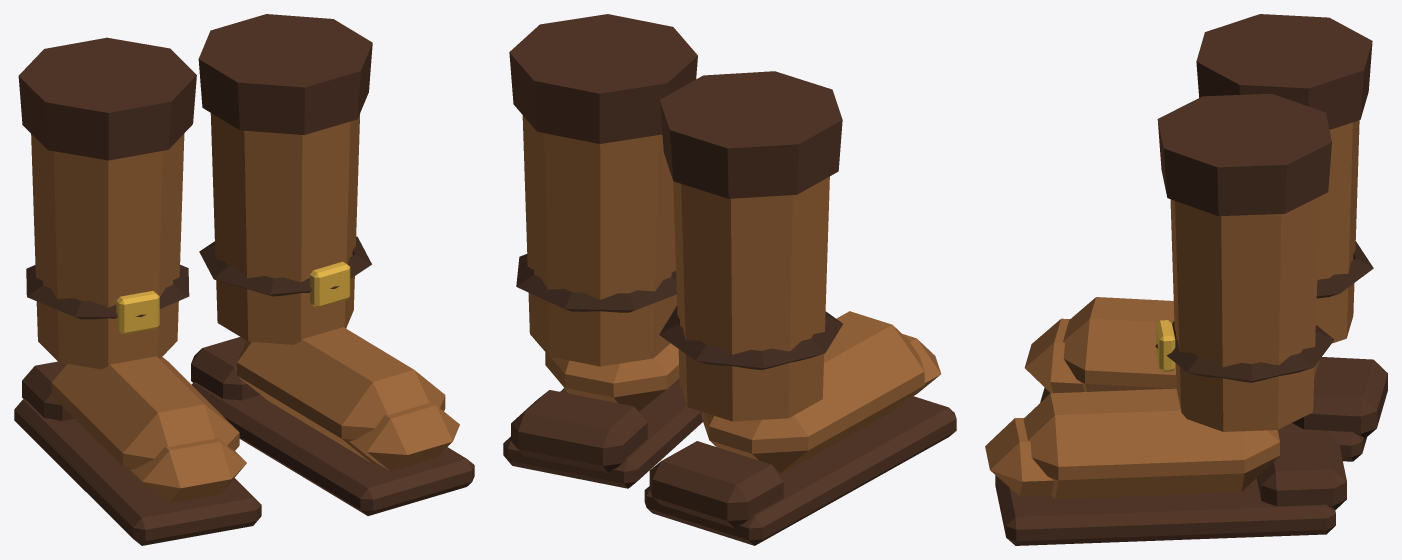
The model's file is Item_LeatherBoots.glb.
The picture shows the model from 3 angles, left to right: view 1: azimuth 30°, elevation 25°; view 2: azimuth 150°, elevation 25°; view 3: azimuth 270°, elevation 25°; orthographic projection. The views are drawn at different scales.
Parts seen in each view (by area): view 1: Item_LeatherBoots; view 2: Item_LeatherBoots; view 3: Item_LeatherBoots.
Boxes of the visible parts, left/top/right/bottom form: Item_LeatherBoots: left=14, top=14, right=474, bottom=545; Item_LeatherBoots: left=503, top=14, right=956, bottom=545; Item_LeatherBoots: left=985, top=14, right=1387, bottom=545.
Size of the model in its own units: 0.2863 by 0.317 by 0.3041.
